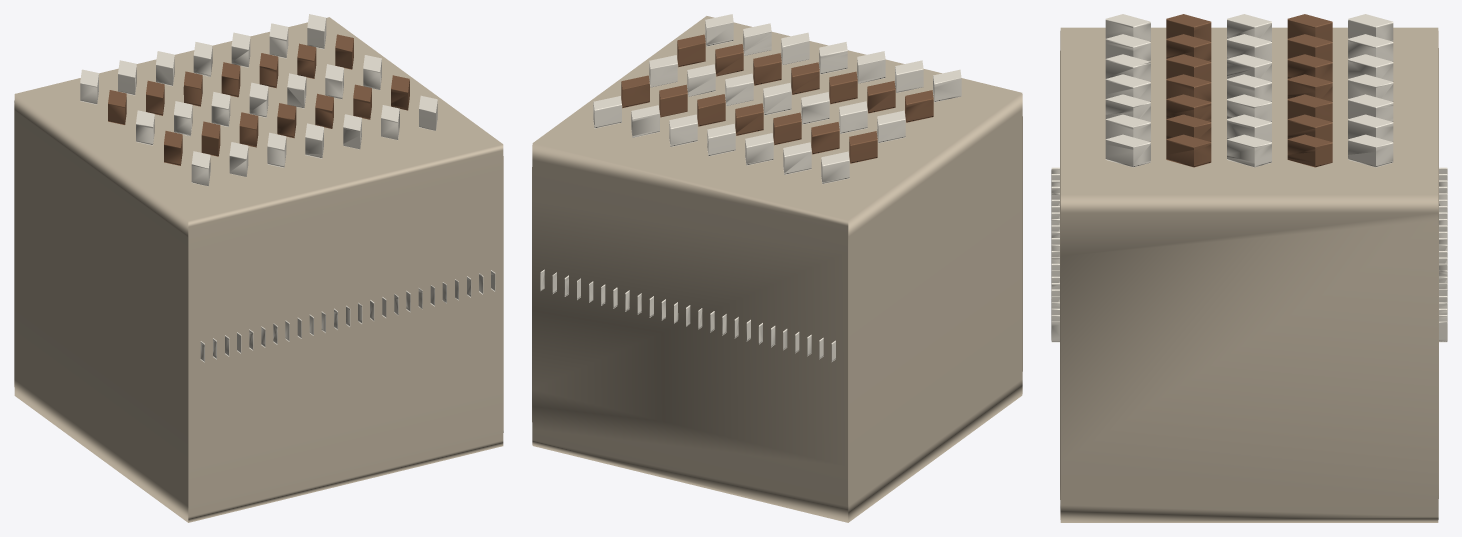
The model's file is rug-15-2.lod.glb.
3 renders of one model, left to right at view 1: azimuth 30°, elevation 25°; view 2: azimuth 150°, elevation 25°; view 3: azimuth 270°, elevation 25°, orthographic. The views are drawn at different scales.
Parts seen in each view (by area): view 1: woven-rug, upholstery (×2); view 2: woven-rug, upholstery (×2); view 3: woven-rug, upholstery (×2).
Part boxes in pixels (left/top/right/bottom): woven-rug: left=14, top=17, right=503, bottom=522; upholstery (×2): left=80, top=14, right=495, bottom=362; woven-rug: left=532, top=16, right=1022, bottom=522; upholstery (×2): left=540, top=14, right=961, bottom=361; woven-rug: left=1060, top=27, right=1438, bottom=522; upholstery (×2): left=1051, top=14, right=1447, bottom=342.
Size of the model in its own units: 1 by 1 by 1.
